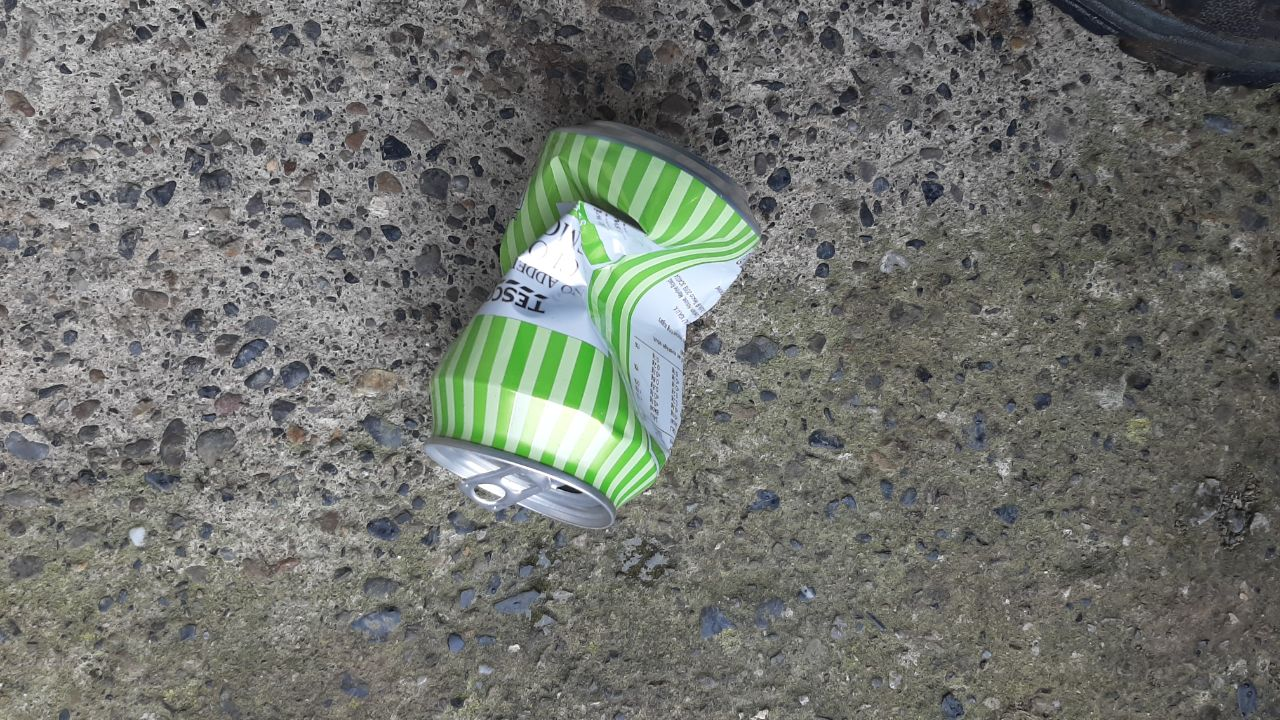Can: (420, 116, 761, 533)
